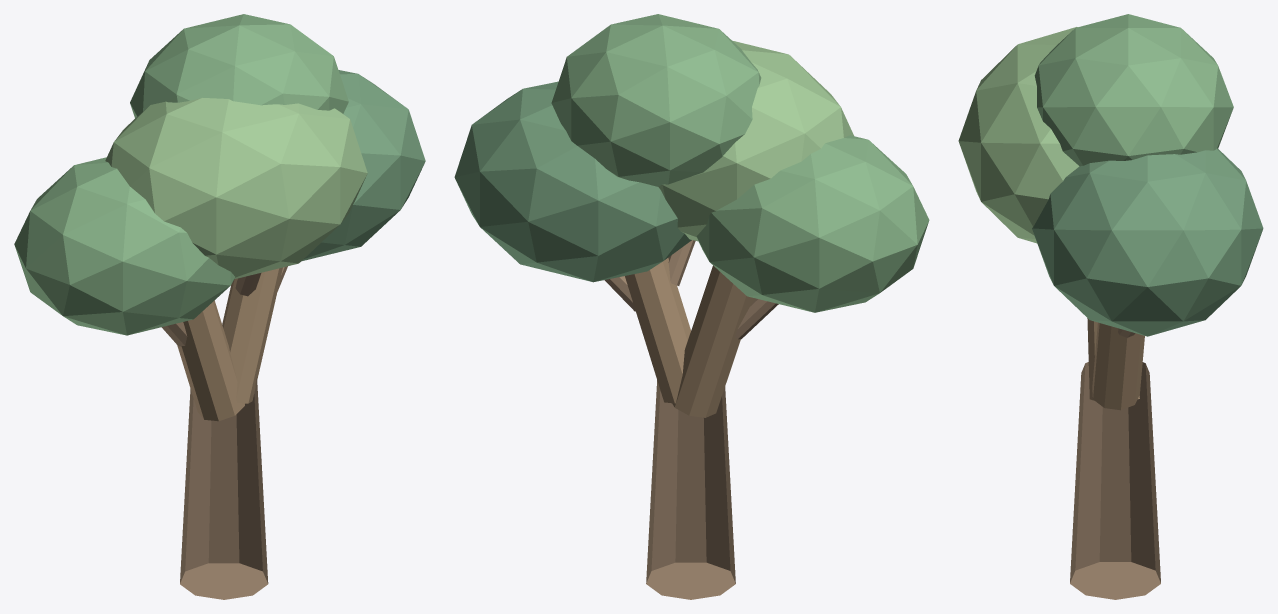
Rendered from tree-oak-b.glb.
3 renders of one model, left to right at view 1: azimuth 30°, elevation 25°; view 2: azimuth 150°, elevation 25°; view 3: azimuth 270°, elevation 25°, orthographic. The views are drawn at different scales.
Visible parts, largest first — view 1: Canopy_2, Canopy_1, Canopy_4, TrunkBase, Canopy_3, TrunkLeft, TrunkRight; view 2: Canopy_1, Canopy_3, Canopy_4, TrunkBase, Canopy_2, TrunkLeft, TrunkRight, Branch_1, Branch_3; view 3: Canopy_3, Canopy_4, TrunkBase, Canopy_2, TrunkRight, TrunkLeft.
Part boxes in pixels (bbox=[...]): Canopy_2: bbox=[105, 98, 367, 279]; Canopy_1: bbox=[14, 157, 234, 335]; Canopy_4: bbox=[130, 14, 348, 118]; TrunkBase: bbox=[180, 378, 268, 599]; Canopy_3: bbox=[302, 70, 425, 260]; TrunkLeft: bbox=[177, 300, 244, 421]; TrunkRight: bbox=[222, 267, 282, 403]; Canopy_1: bbox=[696, 135, 929, 312]; Canopy_3: bbox=[454, 81, 691, 282]; Canopy_4: bbox=[551, 14, 761, 186]; TrunkBase: bbox=[646, 380, 735, 599]; Canopy_2: bbox=[658, 40, 853, 241]; TrunkLeft: bbox=[672, 265, 754, 417]; TrunkRight: bbox=[625, 258, 690, 403]; Branch_1: bbox=[734, 298, 778, 339]; Branch_3: bbox=[668, 240, 695, 285]; Canopy_3: bbox=[1032, 148, 1263, 336]; Canopy_4: bbox=[1034, 14, 1233, 166]; TrunkBase: bbox=[1070, 362, 1160, 599]; Canopy_2: bbox=[958, 27, 1079, 243]; TrunkRight: bbox=[1092, 322, 1144, 410]; TrunkLeft: bbox=[1087, 318, 1139, 400].
Size of the model in its own units: 3.85 by 4.83 by 2.37.
